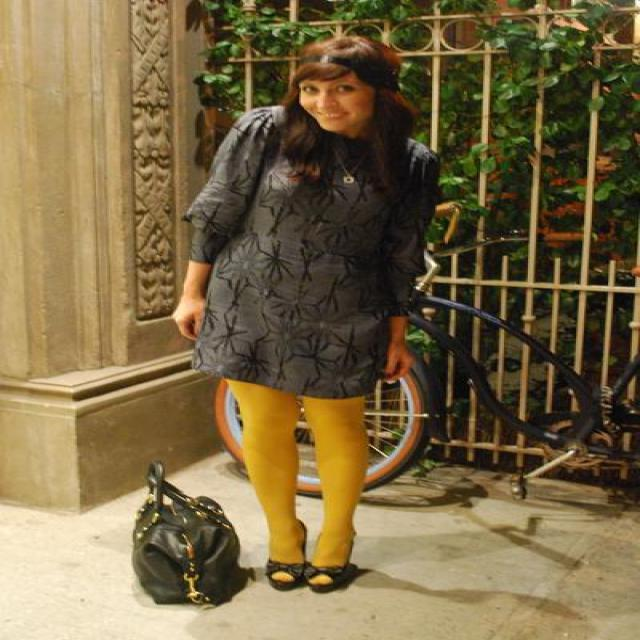bag: (131, 476, 248, 606)
dress: (187, 92, 440, 399)
shoe: (266, 550, 370, 593)
